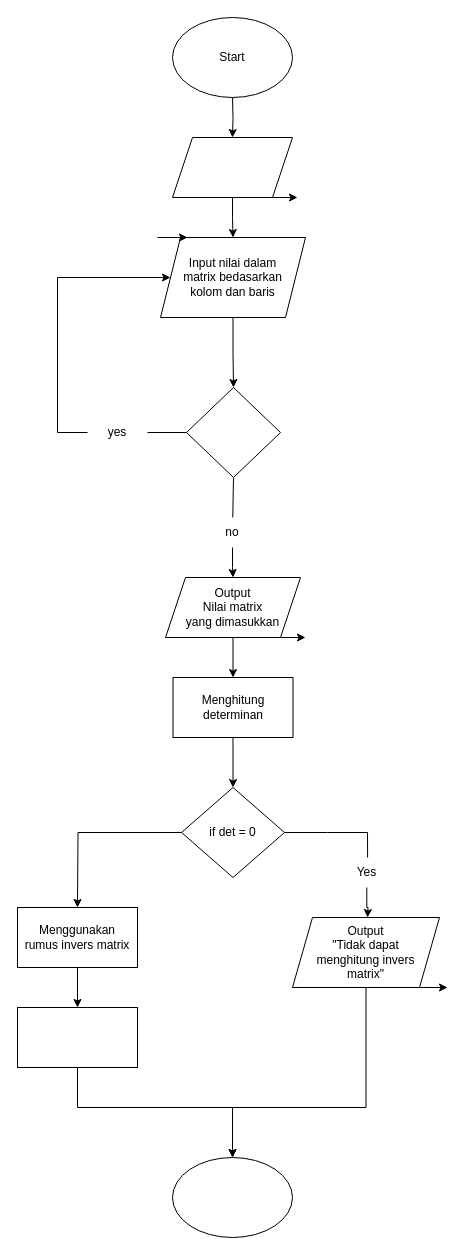
This 473x1255 diagram has some shape labels left out. Each missing label, with the centre of its shape:
End: pixel 232 1197
if input != float: pixel 233 432
Menyimpan hasil invers matrix: pixel 77 1037
Output "Masukkan nilai Matrix": pixel 232 167
